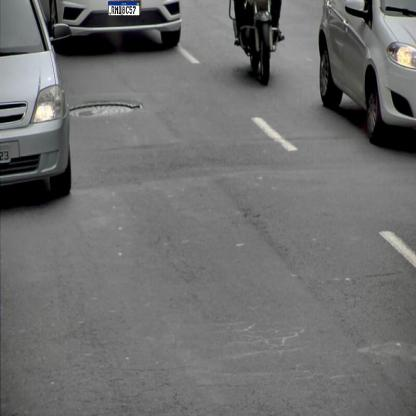PlacaM: (108, 1, 140, 16)
